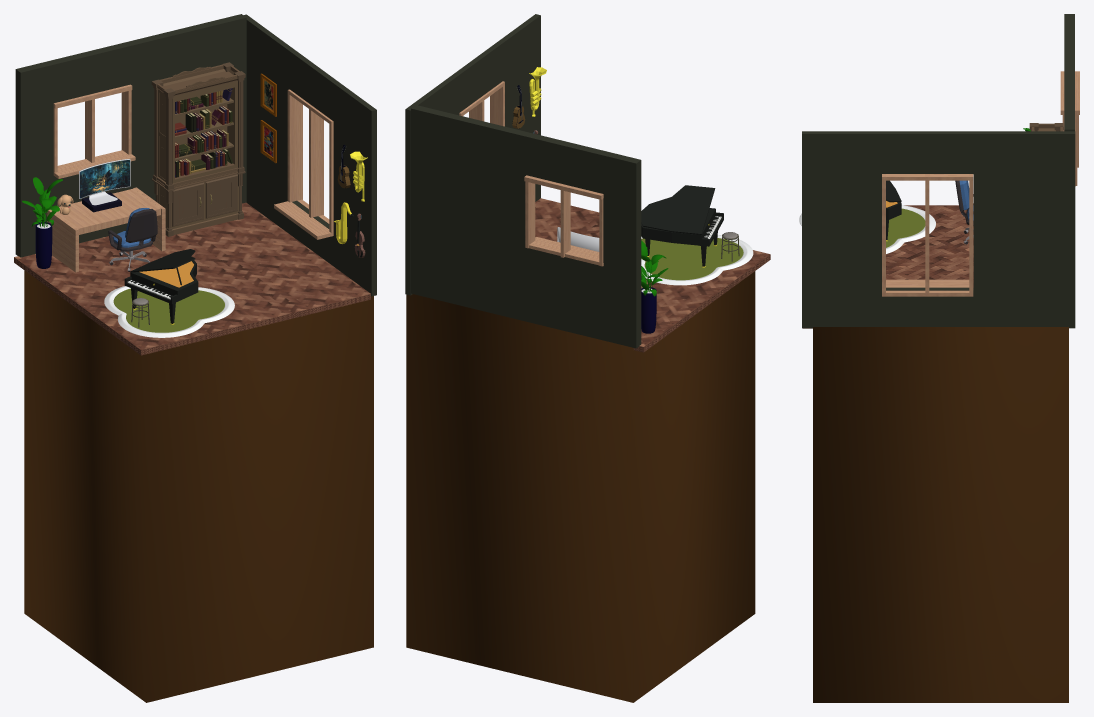
File: Jazz-transformed.glb
3 views of the same model, side by side, from view 1: azimuth 30°, elevation 25°; view 2: azimuth 150°, elevation 25°; view 3: azimuth 270°, elevation 25° (orthographic). The views are drawn at different scales.
Visible parts, largest first — view 1: Plane, trumpet_Circle.006, Floor, Desk Top, Plane.004, plant.001; view 2: Plane, Floor, trumpet_Circle.006, Desk Top, plant.001; view 3: Plane, Floor, Desk Top, trumpet_Circle.006.
Part boxes in pixels (<box>): Plane: <box>15,14,376,702</box>; trumpet_Circle.006: <box>108,62,367,327</box>; Floor: <box>14,202,370,355</box>; Desk Top: <box>46,84,333,272</box>; Plane.004: <box>80,160,129,198</box>; plant.001: <box>22,177,62,227</box>; Plane: <box>405,14,755,702</box>; Floor: <box>535,198,770,352</box>; trumpet_Circle.006: <box>512,67,739,267</box>; Desk Top: <box>459,81,642,288</box>; plant.001: <box>641,240,668,296</box>; Plane: <box>799,14,1075,702</box>; Floor: <box>803,205,973,328</box>; Desk Top: <box>882,71,1079,296</box>; trumpet_Circle.006: <box>886,123,1063,244</box>.
Bounding box in the file's own units: 9.25 × 19.65 × 8.77.
8 materials, 8 textured.
